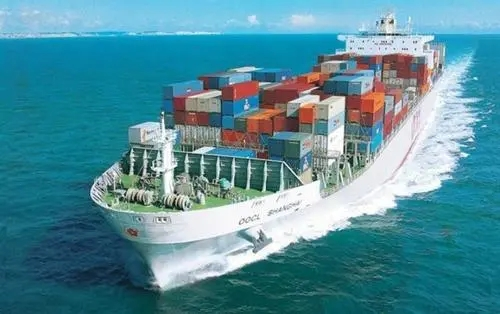Cargoship: (87, 11, 449, 292)
